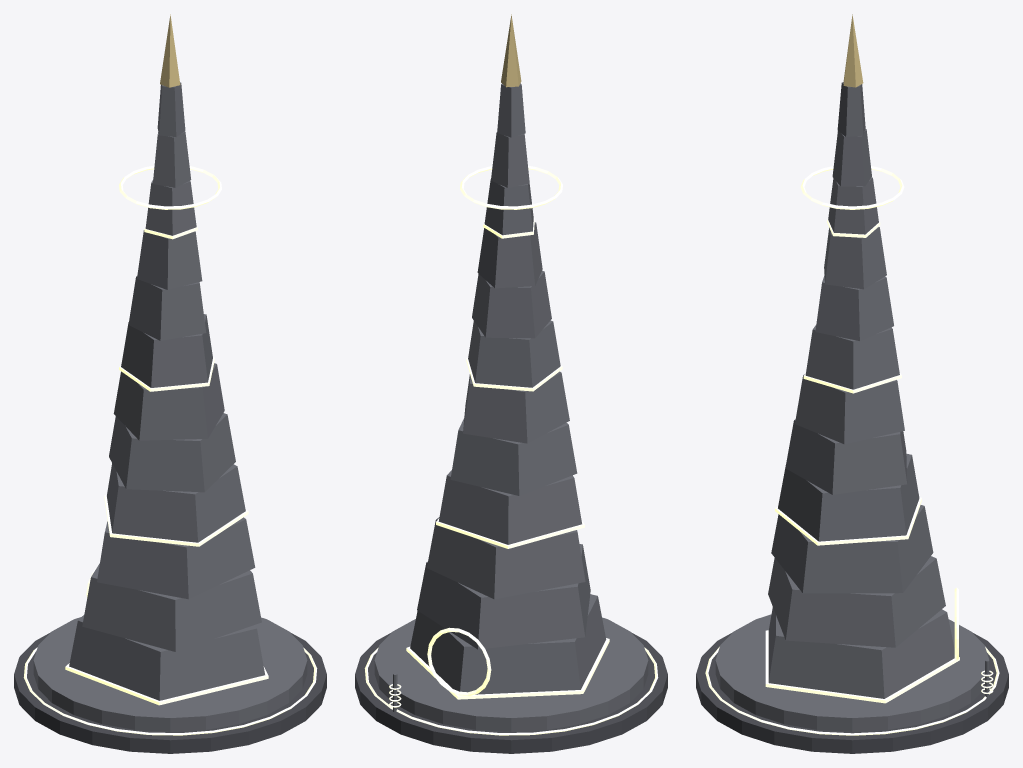
The model's file is zone_high_1_t4.glb.
3 views of the same model, side by side, from view 1: azimuth 30°, elevation 25°; view 2: azimuth 150°, elevation 25°; view 3: azimuth 270°, elevation 25° (orthographic).
Parts seen in each view (by area): view 1: zone_high_1_t4; view 2: zone_high_1_t4; view 3: zone_high_1_t4.
Boxes of the visible parts, x1,y1,x2,y2 form: zone_high_1_t4: [14, 14, 326, 753]; zone_high_1_t4: [355, 14, 667, 753]; zone_high_1_t4: [696, 14, 1008, 753].
Size of the model in its own units: 28.8 by 68.43 by 28.8.
